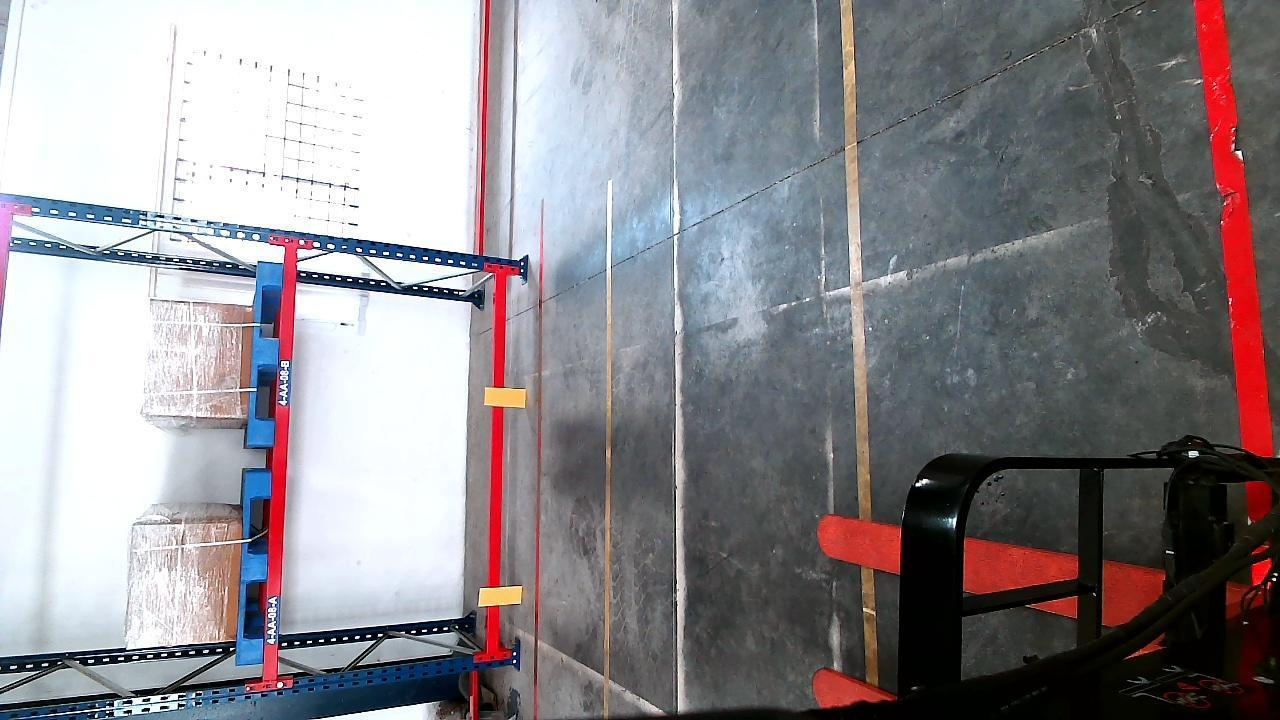h_rack: (1191, 0, 1277, 449), (261, 243, 297, 683), (487, 275, 508, 651)
orange_strip: (482, 585, 524, 608), (487, 385, 530, 407)
red_line: (528, 196, 549, 713)
small_pallet: (250, 265, 284, 455), (237, 502, 273, 658)
yellow_line: (841, 0, 879, 686), (597, 176, 619, 720)
